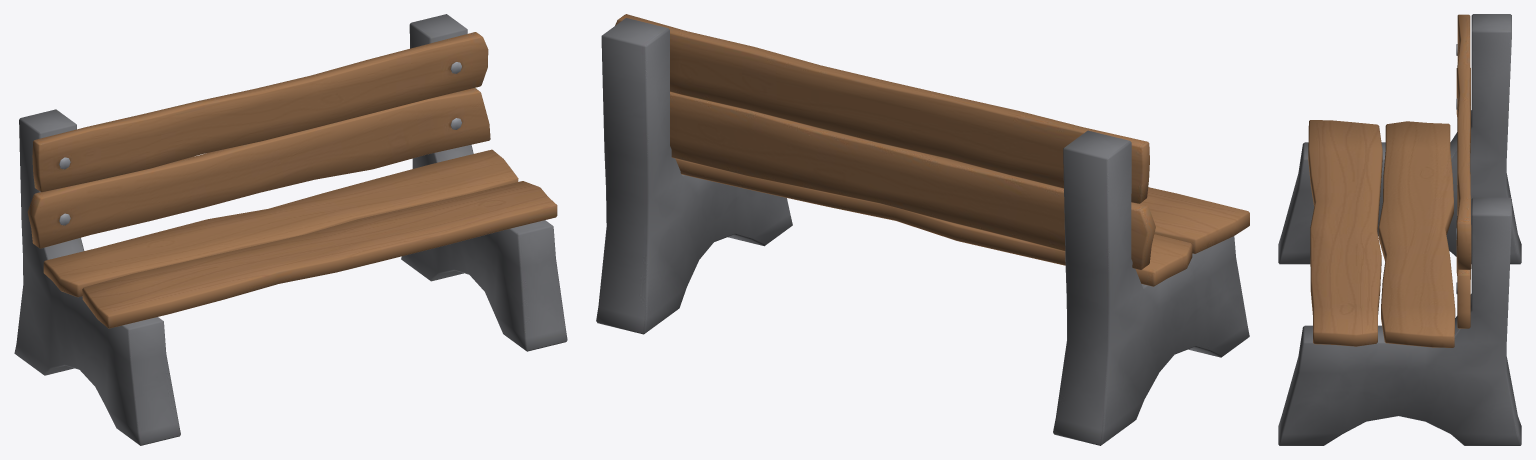
The model's file is Bench.fbx.
3 views of the same model, side by side, from view 1: azimuth 30°, elevation 25°; view 2: azimuth 150°, elevation 25°; view 3: azimuth 270°, elevation 25° (orthographic). The views are drawn at different scales.
Visible parts, largest first — view 1: Wooden Plankls, Supports; view 2: Wooden Plankls, Supports; view 3: Supports, Wooden Plankls.
Part boxes in pixels (left/top/right/bottom): Wooden Plankls: left=27, top=32, right=557, bottom=328; Supports: left=14, top=14, right=567, bottom=445; Wooden Plankls: left=615, top=14, right=1249, bottom=286; Supports: left=596, top=18, right=1249, bottom=445; Supports: left=1278, top=14, right=1521, bottom=445; Wooden Plankls: left=1308, top=14, right=1471, bottom=347.
Size of the model in its own units: 3.04 by 1.52 by 1.45.
